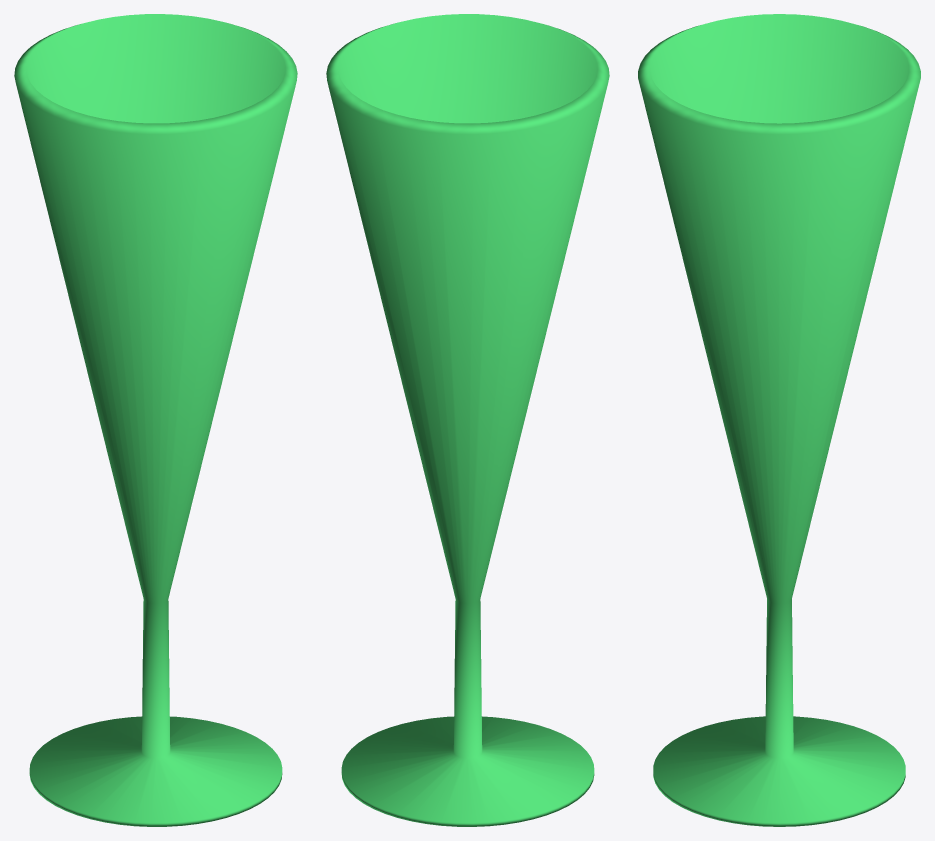
Rendered from DrinkGlass_9.fbx.
3 views of the same model, side by side, from view 1: azimuth 30°, elevation 25°; view 2: azimuth 150°, elevation 25°; view 3: azimuth 270°, elevation 25° (orthographic).
Parts seen in each view (by area): view 1: DrinkGlass 9; view 2: DrinkGlass 9; view 3: DrinkGlass 9.
Part boxes in pixels (box(x1,y1,x2,y2)): DrinkGlass 9: box(14, 14, 297, 826); DrinkGlass 9: box(326, 14, 609, 826); DrinkGlass 9: box(638, 14, 920, 826).
Bounding box in the file's own units: 0.058 × 0.1593 × 0.0579.
